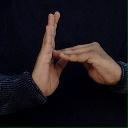hand: (31, 10, 68, 96), (52, 41, 121, 85)
